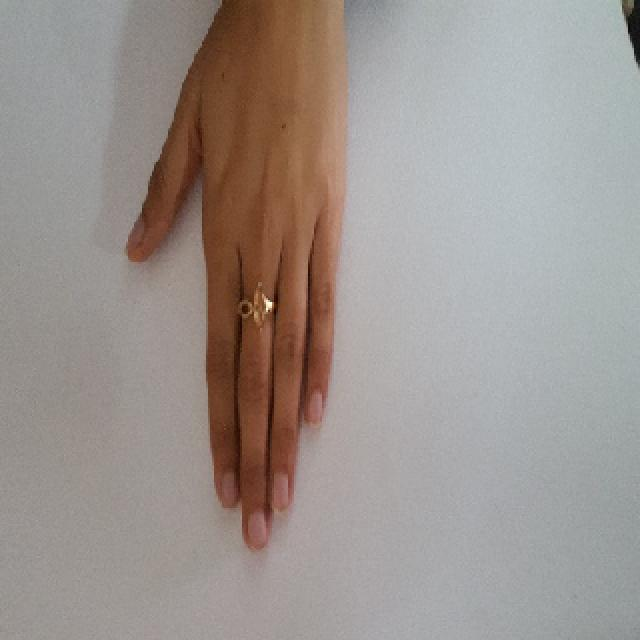Nail: (246, 511, 269, 549), (271, 471, 290, 510), (220, 470, 239, 508), (306, 390, 323, 425), (129, 216, 145, 246)
